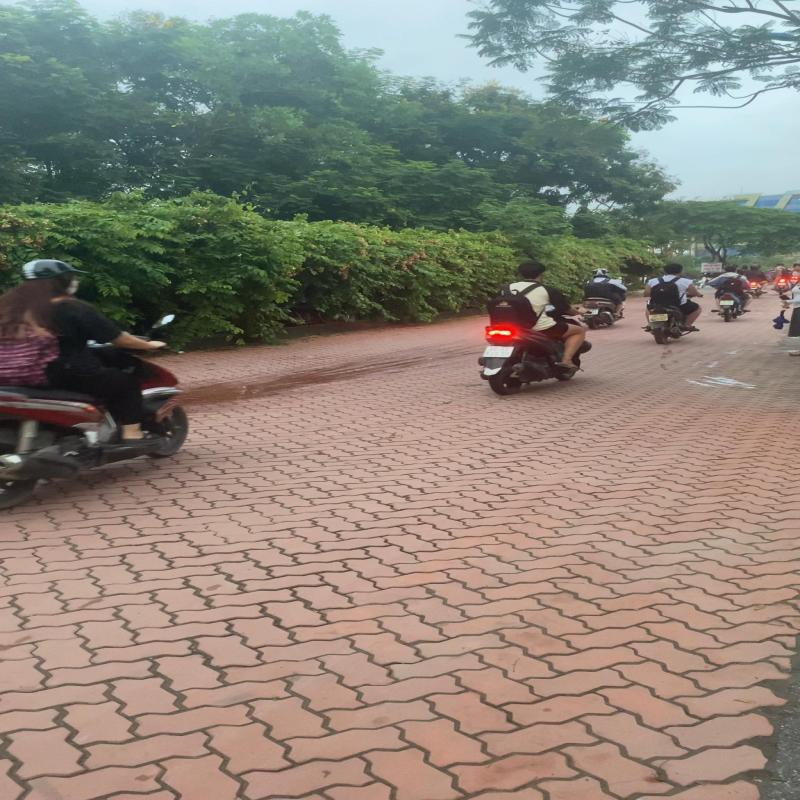licenseplate: (482, 346, 514, 358)
motorcyclist: (473, 260, 594, 395)
nohelmet: (518, 261, 546, 280)
